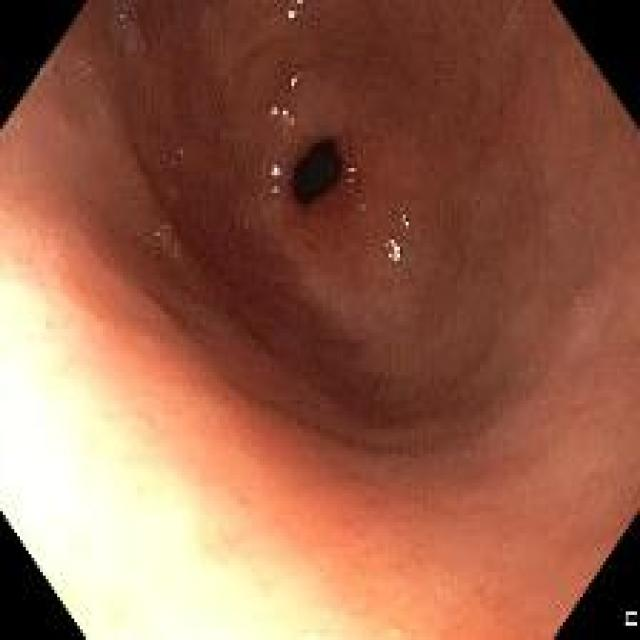bubbles: (269, 183, 283, 201), (171, 241, 183, 261), (154, 224, 171, 238), (284, 6, 300, 19), (348, 164, 357, 186), (399, 214, 411, 229), (295, 68, 304, 84), (284, 115, 295, 128), (118, 12, 129, 24), (82, 65, 93, 76)
contrast: (290, 135, 343, 206)
saturation: (1, 249, 179, 640), (180, 411, 451, 640)
specularity: (385, 237, 402, 261), (269, 164, 281, 182), (270, 107, 278, 116), (279, 109, 287, 117), (291, 75, 295, 87), (349, 167, 353, 174)
